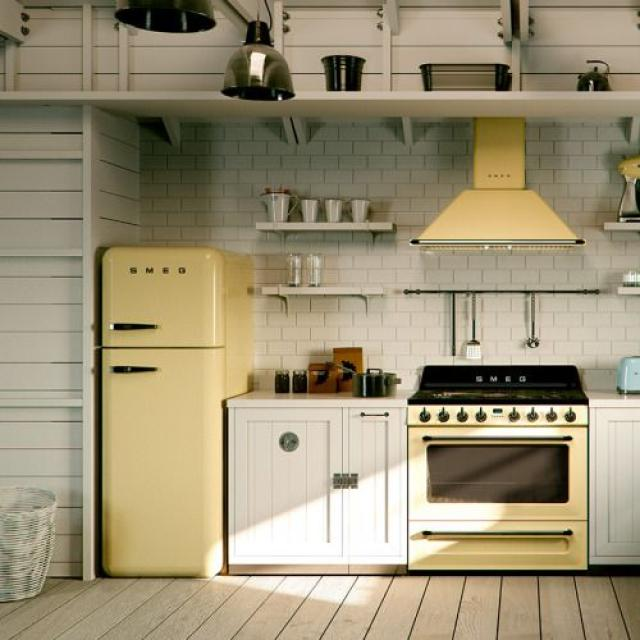obstacle: (99, 244, 254, 578), (224, 396, 407, 574), (588, 402, 638, 567)
